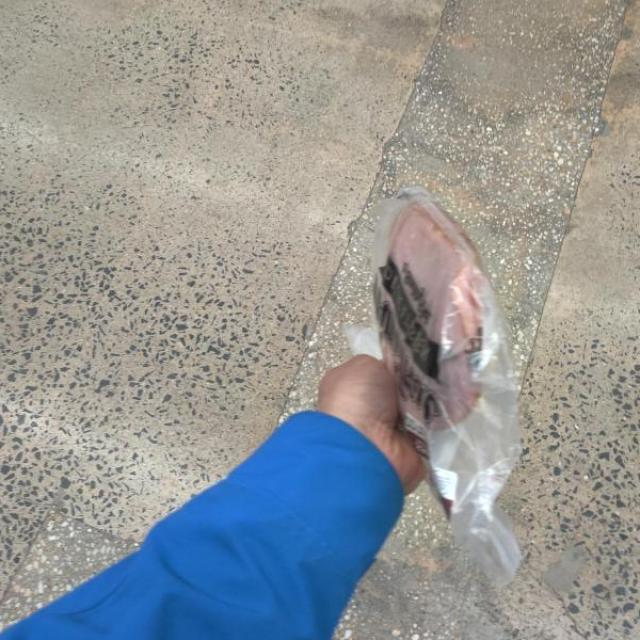Meat: (321, 155, 534, 552)
